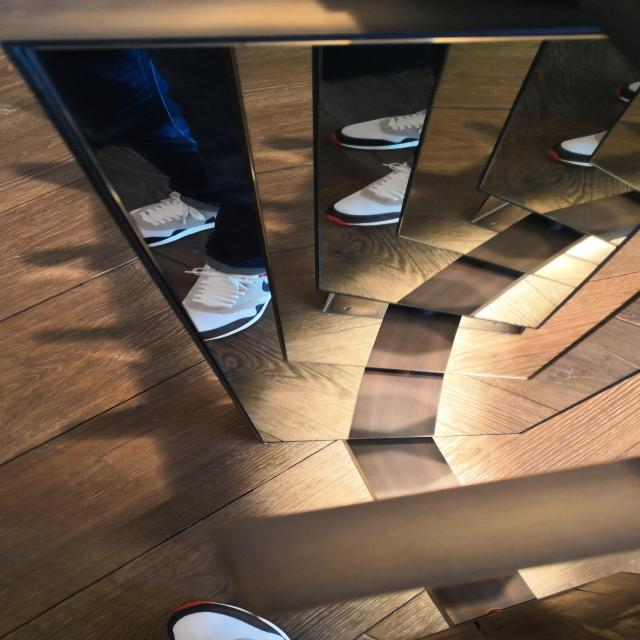shoe: (167, 255, 315, 352), (306, 157, 456, 240), (315, 101, 467, 157), (104, 184, 225, 252), (143, 589, 303, 640), (551, 122, 631, 179)
